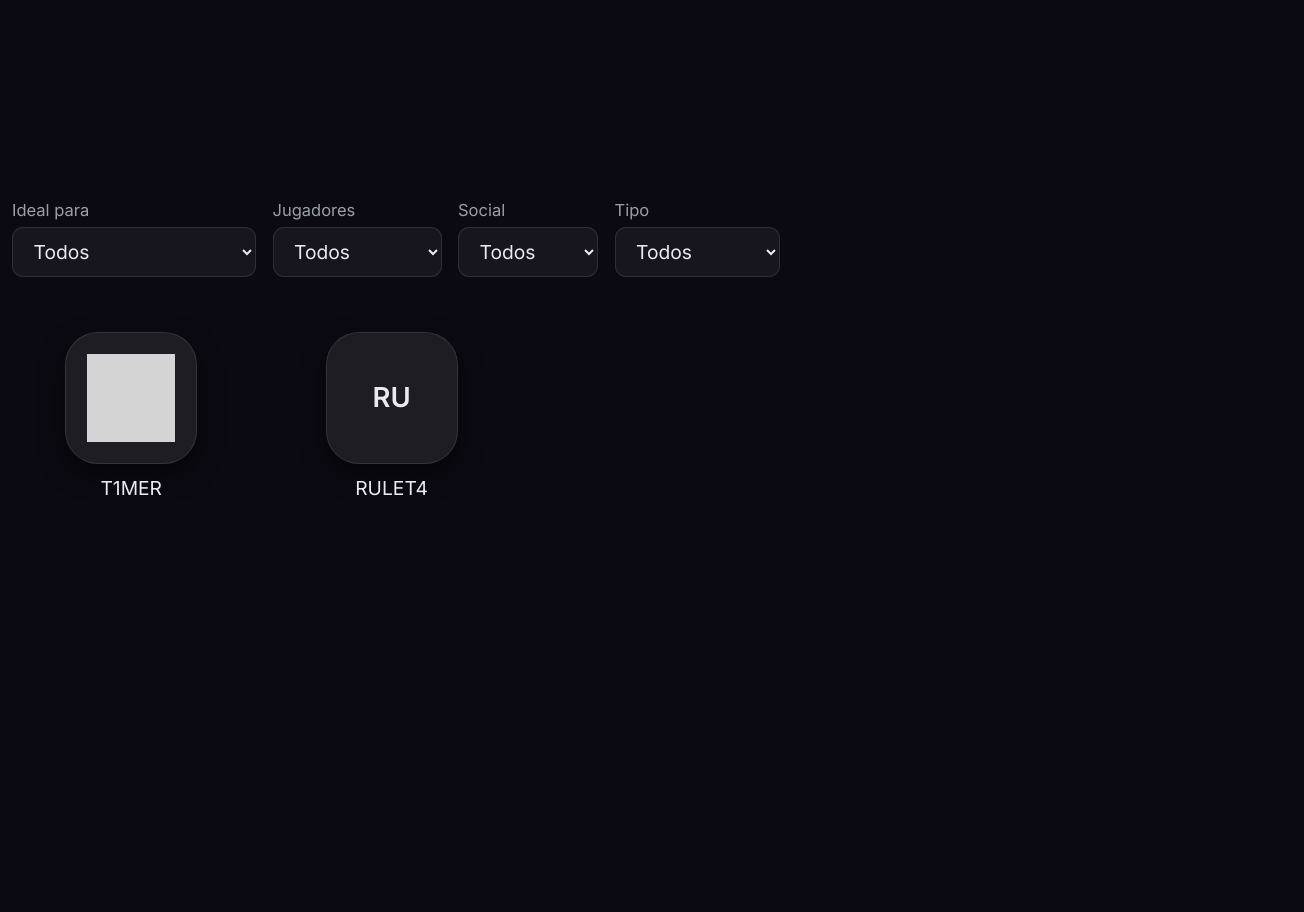
GameGate – create/join view › shows "Disponible en el plan Event" when canCreateGame is false
Click the button "T1MER".
click(131, 417)  # box [61,332,201,502]
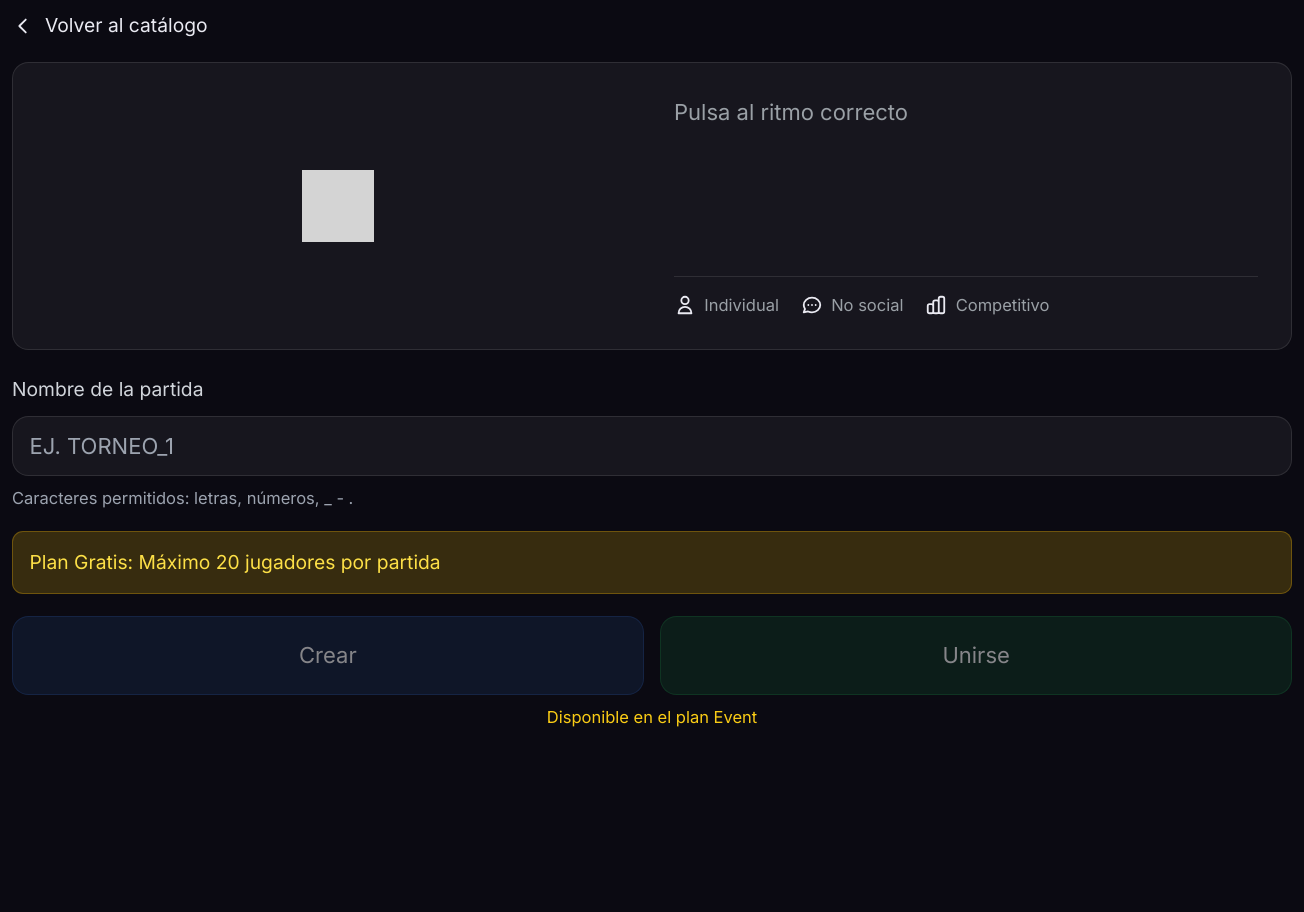
Check: the text "Disponible en el plan Event" is shown, box [547,706,757,726]
